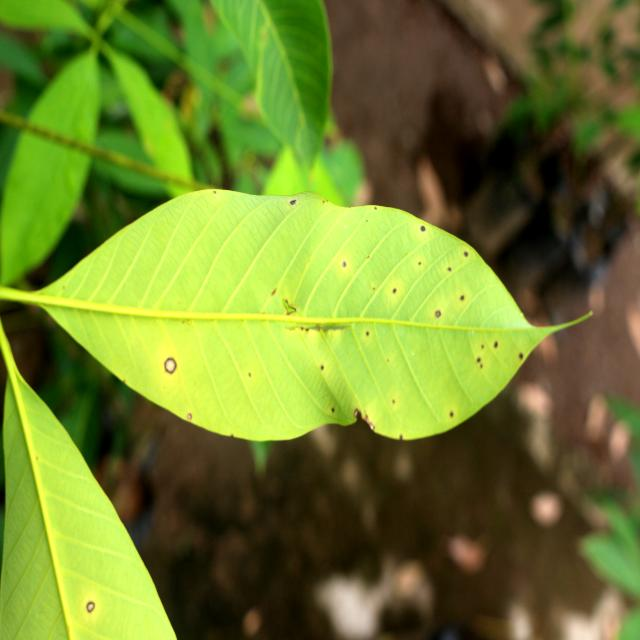Colletotrichum: (164, 358, 177, 373), (86, 602, 95, 611), (435, 311, 441, 317)
